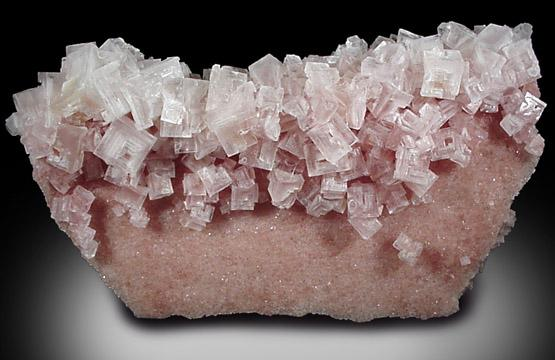halite: (6, 22, 547, 260), (394, 233, 424, 266)
